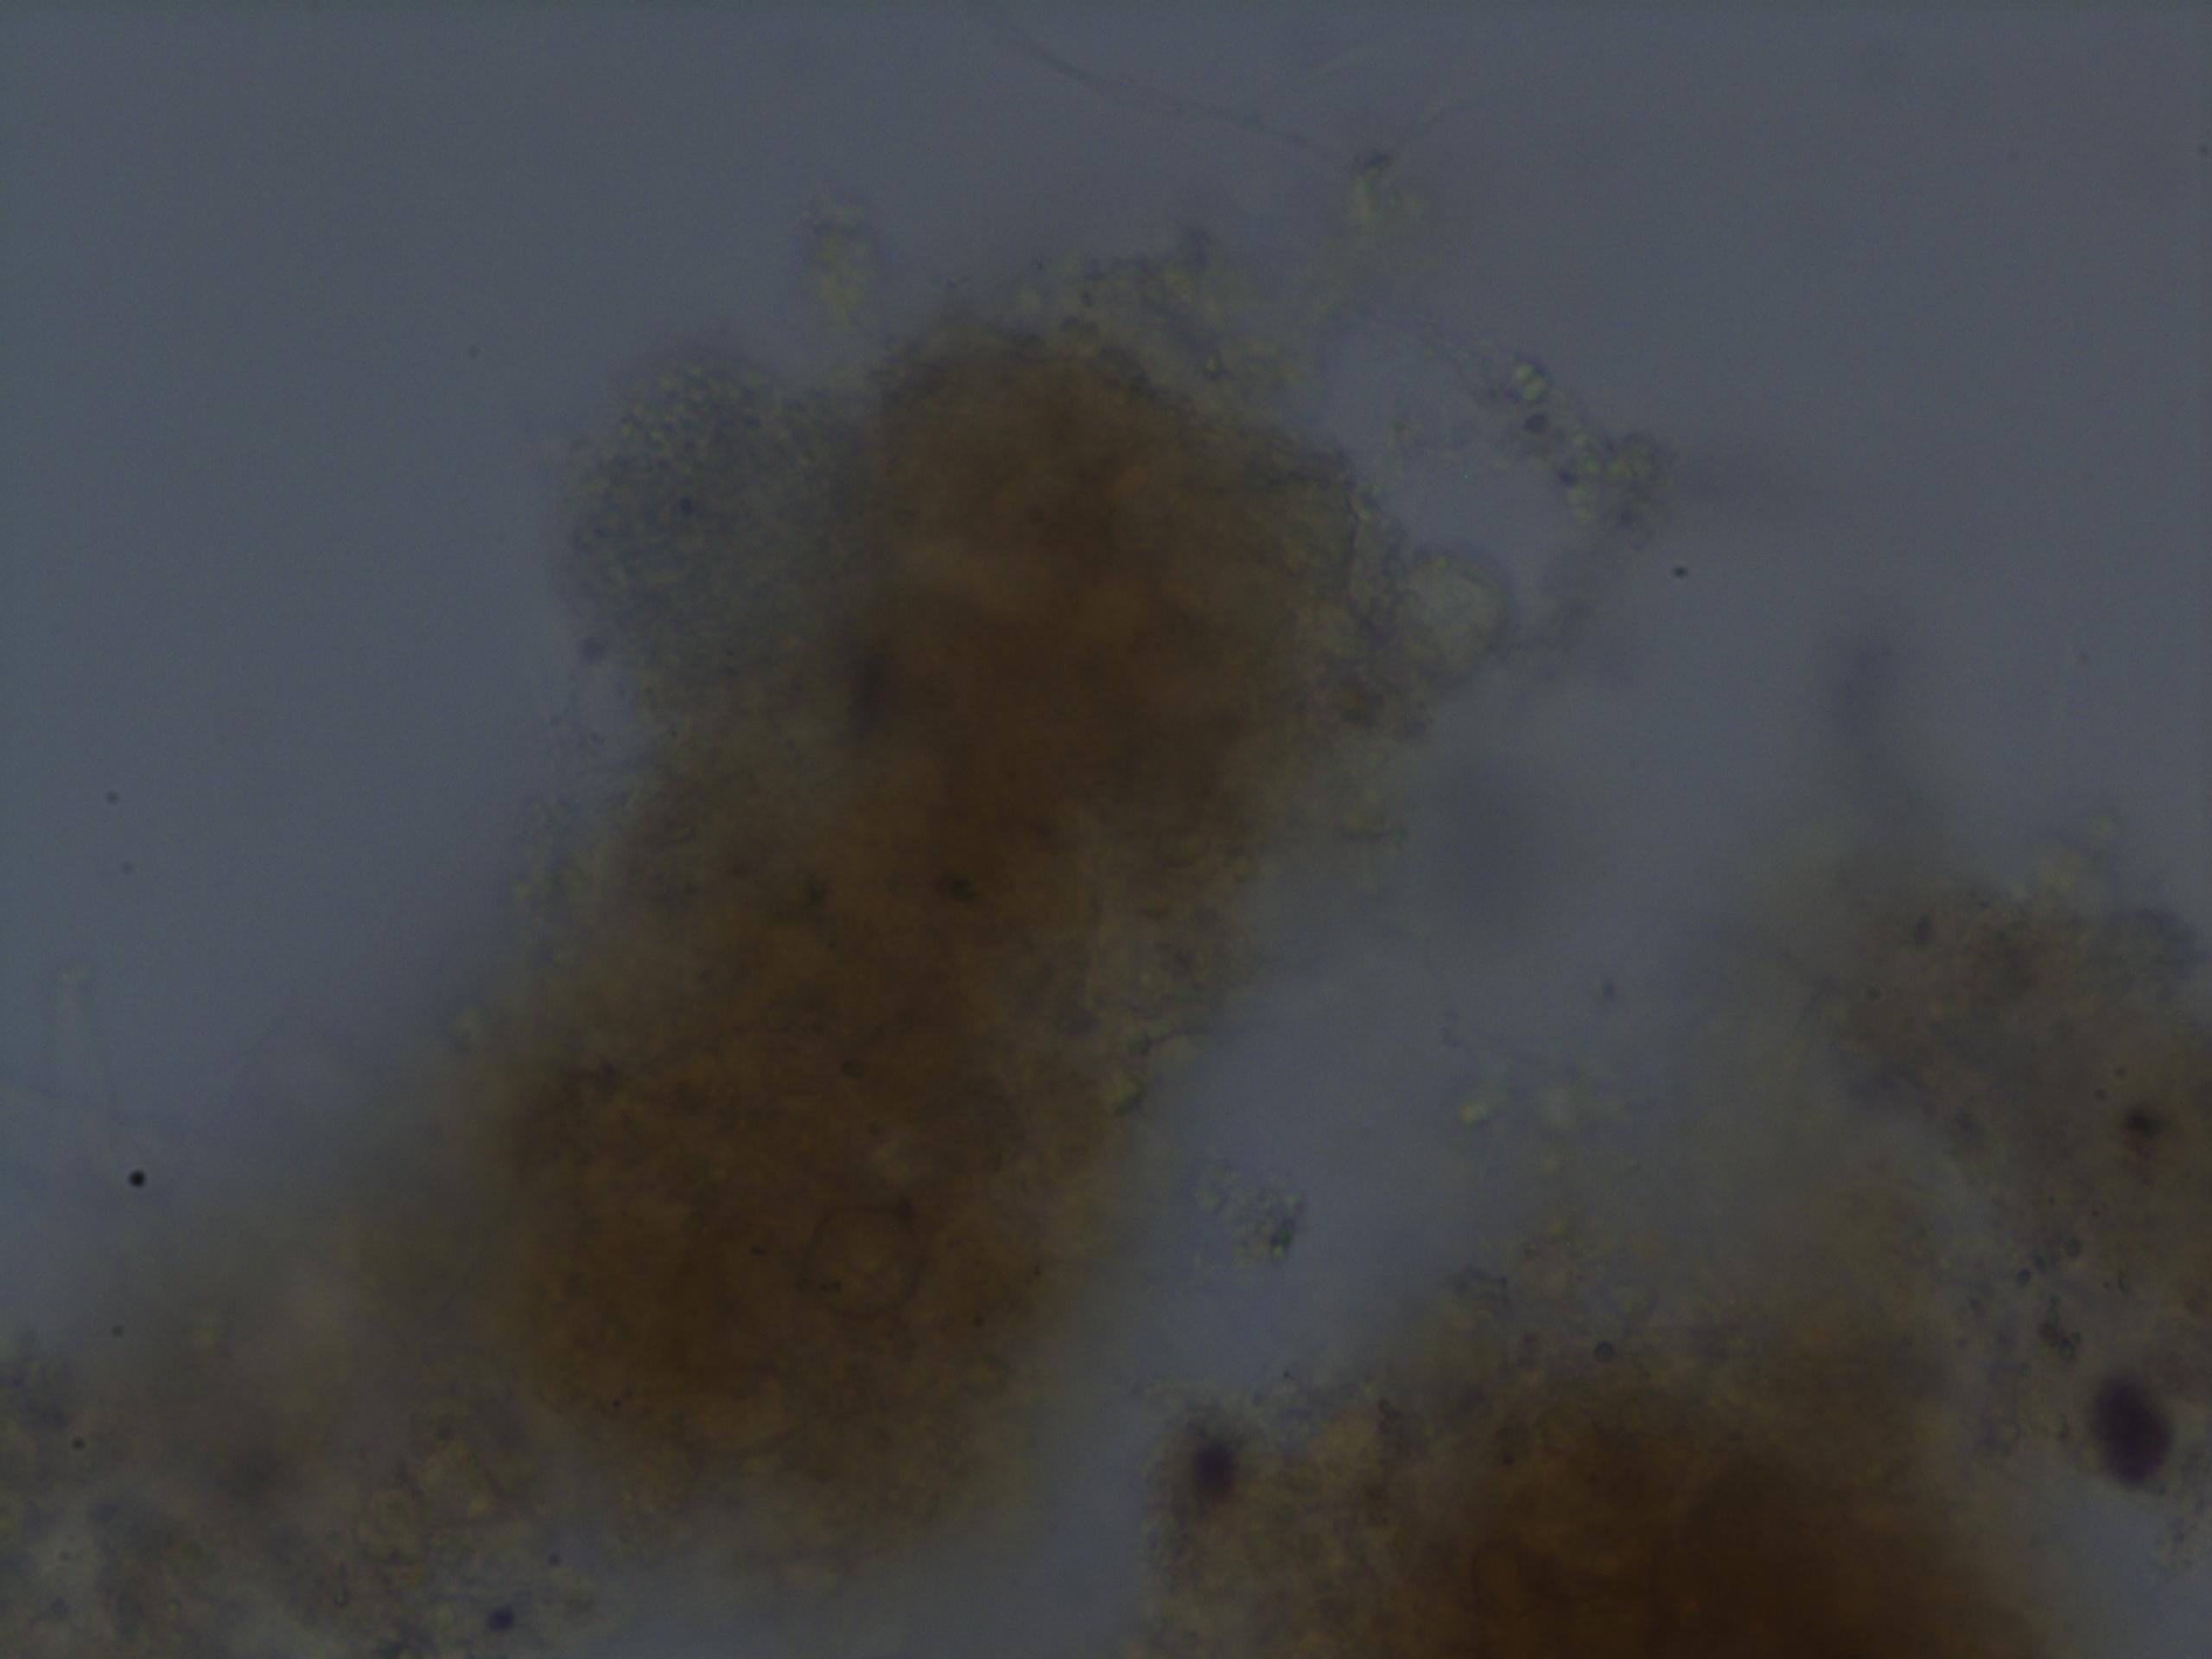spherical_floc: (430, 314, 1447, 1574)
